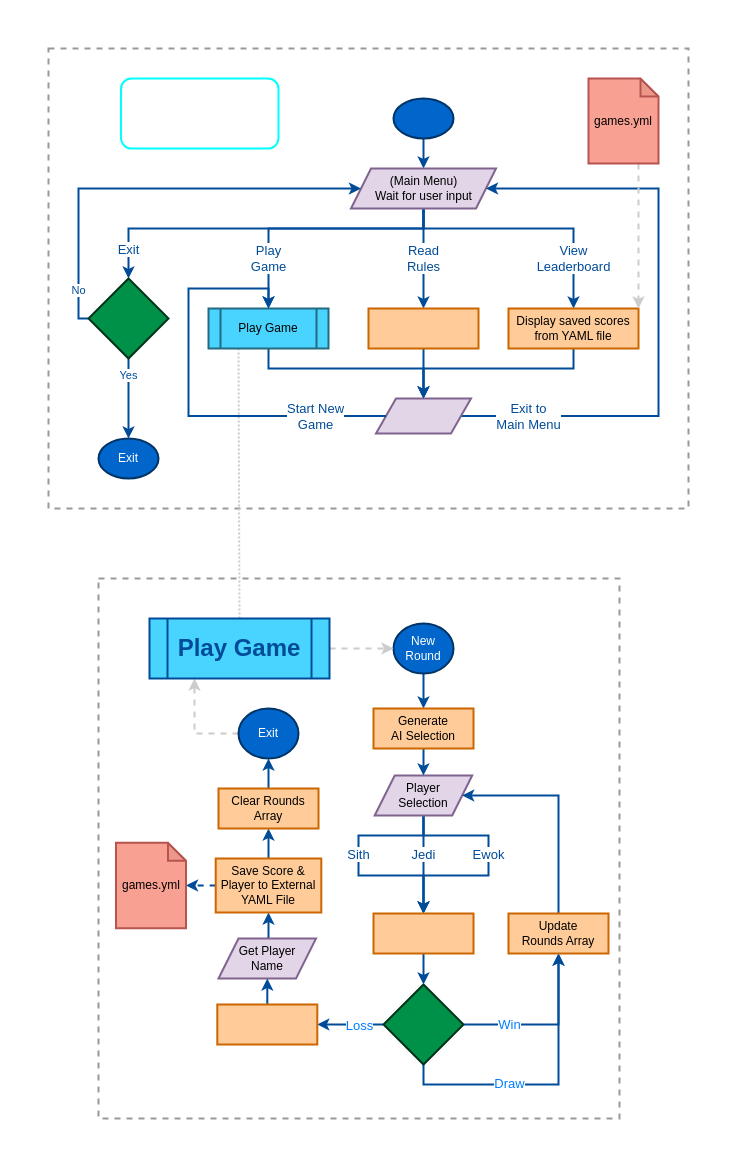
The diagram is 746 pixels wide and 1166 high, and some of its shapes have lost their labels. The centre of each missing label's shape, as x and y in pixels:
'Are you sure?': the point at 128,318
Application Overview: the point at 199,113
Compare Player vs. AI Selection: the point at 423,933
Create New Game: the point at 267,1024
Display Rules: the point at 423,328
Match Result: the point at 423,1024
Options: the point at 423,415
Start: the point at 423,118
